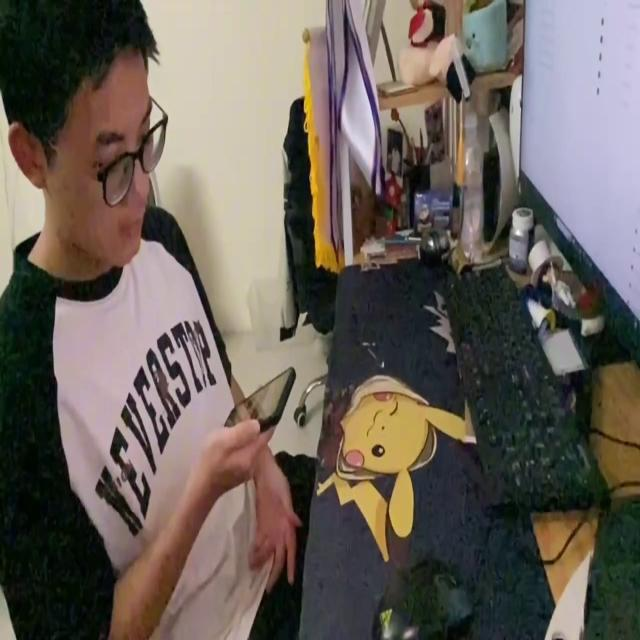laptop: (516, 2, 640, 361)
phone: (219, 364, 296, 436)
student: (1, 6, 308, 640)
